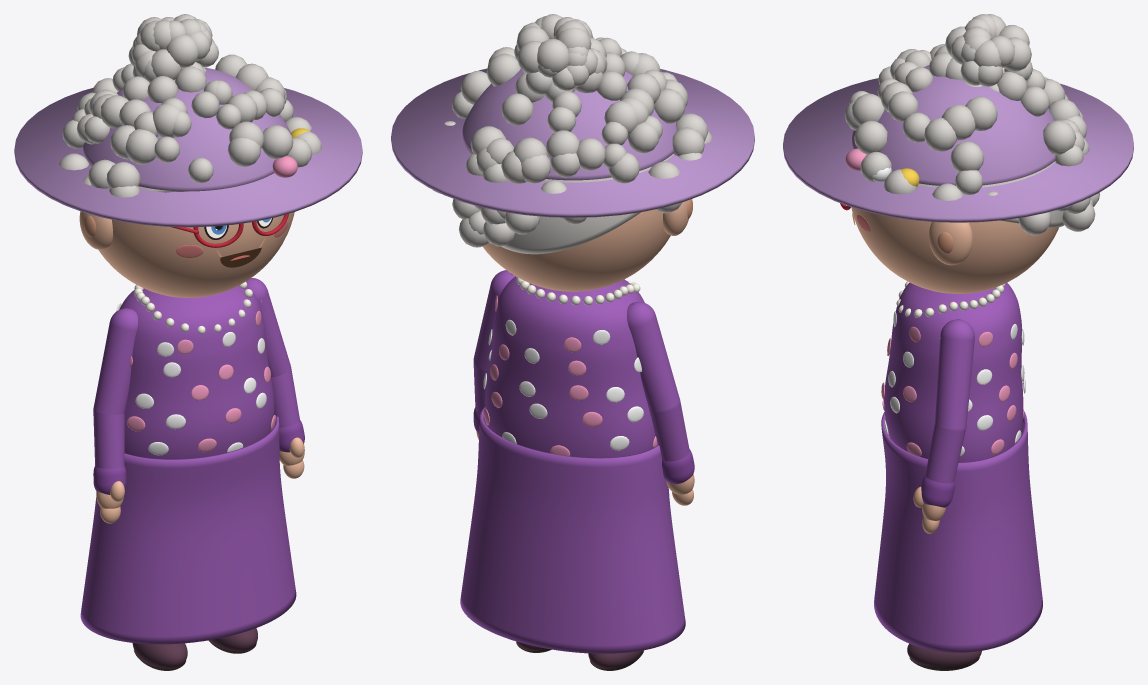
The model's file is tante.glb.
The picture shows the model from 3 angles, left to right: view 1: azimuth 30°, elevation 25°; view 2: azimuth 150°, elevation 25°; view 3: azimuth 270°, elevation 25°; orthographic projection. The views are drawn at different scales.
Parts seen in each view (by area): view 1: tante_rok, tante_romp, tante_hoed_rand, tante_hoofd, tante_hoed, tante, tante_bovenarm_R, tante_onderarm_R, tante_bovenarm_L, tante_onderarm_L, tante_schoen_R, tante_krul26 (+22 smaller); view 2: tante_rok, tante_romp, tante_hoed_rand, tante_hoofd, tante_hoed, tante, tante_bovenarm_R, tante_haar, tante_onderarm_R, tante_bovenarm_L, tante_knotkrul87, tante_krul1 (+23 smaller); view 3: tante_rok, tante_hoed_rand, tante_romp, tante_hoed, tante_hoofd, tante_bovenarm_L, tante, tante_onderarm_L, tante_oor_L, tante_schoen_L, tante_krul7, tante_krul63 (+18 smaller).
Boxes of the visible parts, x1,y1,x2,y2 form: tante_rok: [80, 416, 296, 644]; tante_romp: [119, 286, 274, 459]; tante_hoed_rand: [14, 87, 362, 227]; tante_hoofd: [98, 212, 294, 297]; tante_hoed: [82, 67, 290, 191]; tante: [116, 300, 275, 455]; tante_bovenarm_R: [93, 308, 137, 414]; tante_onderarm_R: [93, 409, 124, 468]; tante_bovenarm_L: [246, 278, 290, 377]; tante_onderarm_L: [271, 368, 299, 427]; tante_schoen_R: [132, 643, 187, 668]; tante_krul26: [125, 129, 158, 164]; tante_rok: [460, 406, 685, 653]; tante_romp: [485, 276, 655, 457]; tante_hoed_rand: [391, 68, 754, 217]; tante_hoofd: [482, 209, 670, 291]; tante_hoed: [461, 68, 676, 180]; tante: [483, 295, 657, 456]; tante_bovenarm_R: [627, 301, 679, 412]; tante_haar: [465, 145, 673, 254]; tante_onderarm_R: [649, 402, 689, 461]; tante_bovenarm_L: [474, 270, 515, 370]; tante_knotkrul87: [537, 39, 568, 72]; tante_krul1: [654, 88, 685, 123]; tante_rok: [874, 410, 1042, 652]; tante_hoed_rand: [783, 78, 1133, 222]; tante_romp: [884, 282, 1023, 462]; tante_hoed: [851, 65, 1055, 185]; tante_hoofd: [851, 207, 1059, 293]; tante_bovenarm_L: [935, 319, 974, 431]; tante: [881, 298, 1025, 456]; tante_onderarm_L: [925, 423, 965, 483]; tante_oor_L: [928, 222, 972, 265]; tante_schoen_L: [907, 643, 981, 667]; tante_krul7: [854, 120, 887, 154]; tante_krul63: [1043, 120, 1076, 154].
Size of the model in its own units: 0.9312 by 1.84 by 0.9312.
